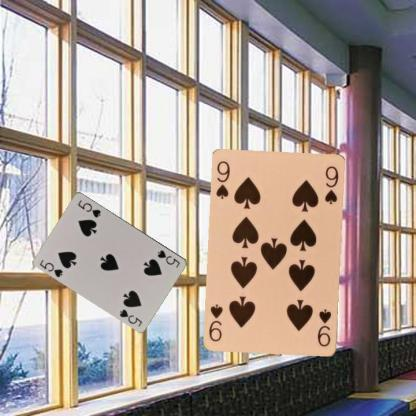5s: (37, 257, 64, 279), (155, 247, 181, 269)
9s: (315, 307, 333, 348), (214, 159, 231, 200)
